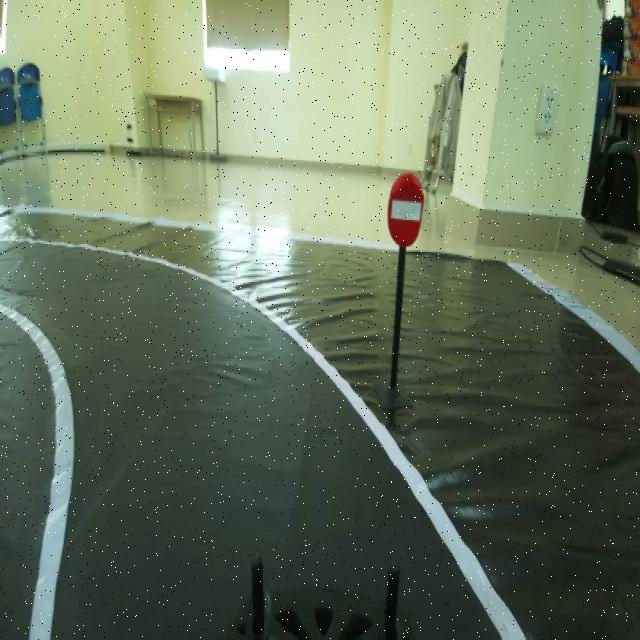no_entry: (384, 166, 428, 251)
